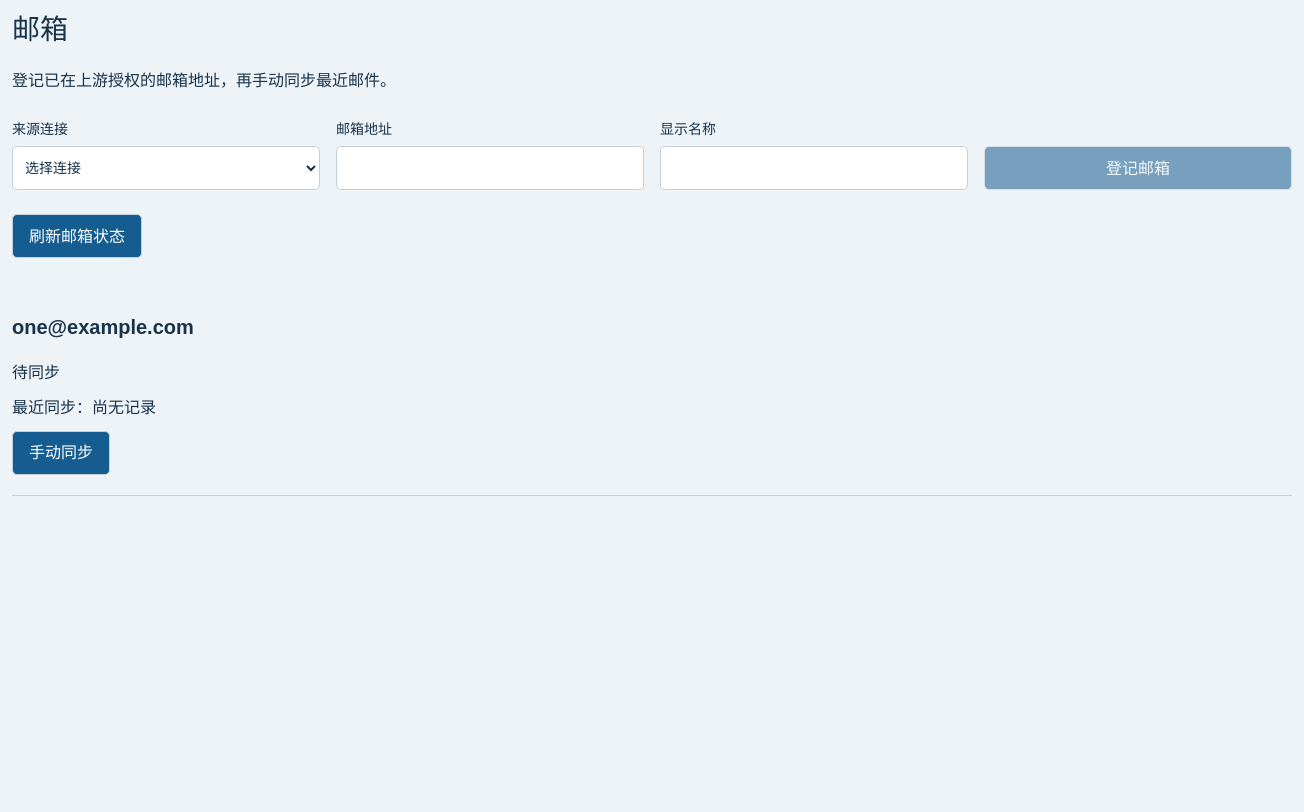
Test: shows failed sync results without losing mailbox
Click the button with aria-label "同步 one@example.com" at coordinates (61, 453), box [12,431,110,475]
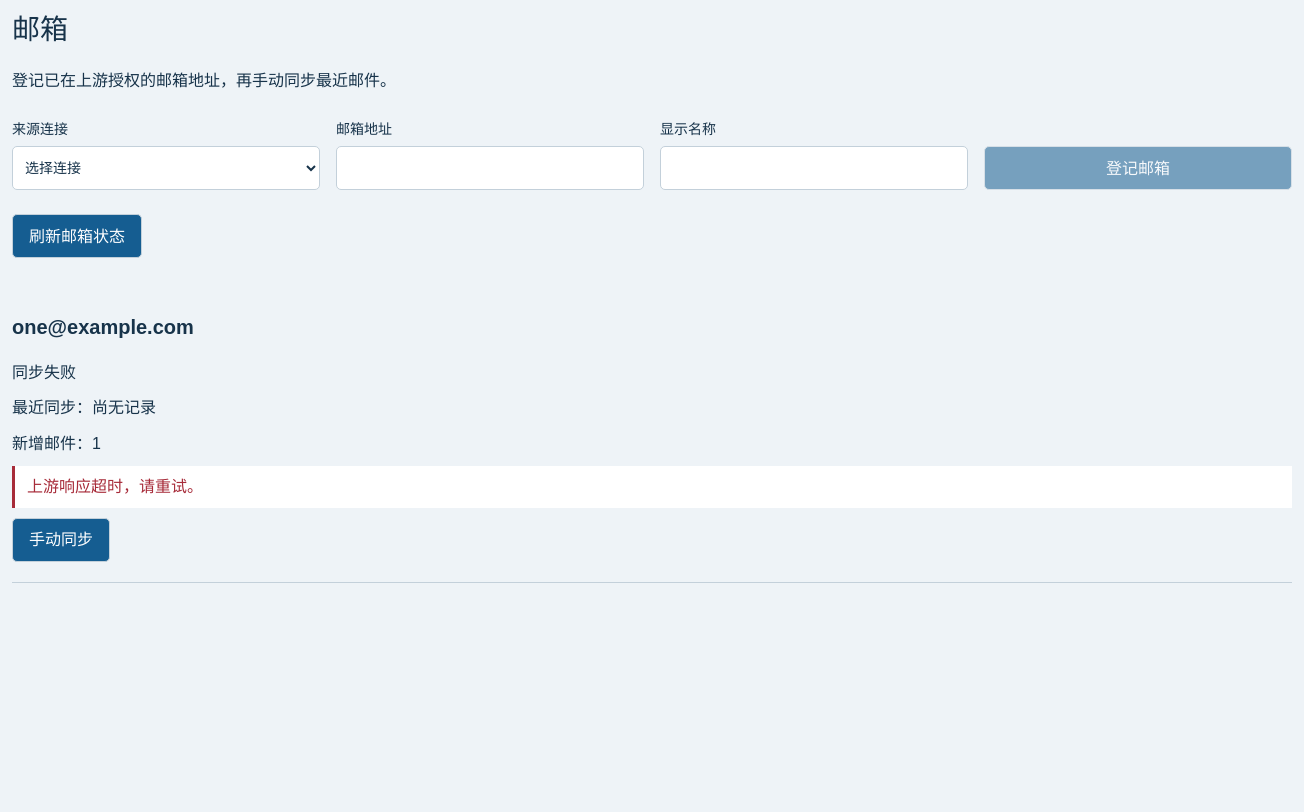
Expected: the heading "one@example.com" is shown, [12,316,194,338]
Result: the text "同步失败" is shown at [12,364,76,381]
Result: the text "上游响应超时，请重试。" is shown at [12,466,1292,508]
